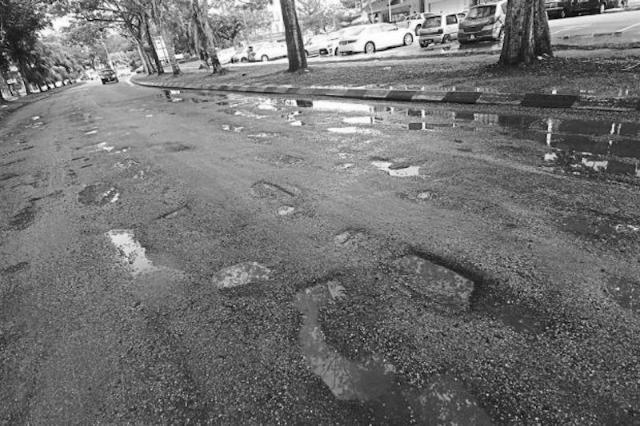Pothole: (285, 274, 397, 406), (468, 112, 640, 182), (403, 361, 500, 426), (391, 242, 475, 316), (262, 96, 398, 121), (550, 209, 626, 249), (68, 109, 132, 155), (101, 225, 155, 279), (0, 105, 52, 158), (490, 298, 548, 340), (362, 152, 428, 186), (604, 270, 640, 322), (209, 259, 271, 289), (153, 86, 227, 108), (2, 193, 40, 231), (76, 180, 120, 212), (250, 175, 296, 203), (116, 158, 158, 182), (154, 201, 193, 225), (252, 151, 306, 167), (399, 122, 459, 136), (306, 230, 360, 244), (143, 141, 195, 155), (394, 190, 441, 202), (213, 121, 247, 135), (274, 207, 308, 219), (250, 131, 288, 140), (334, 158, 356, 172)
